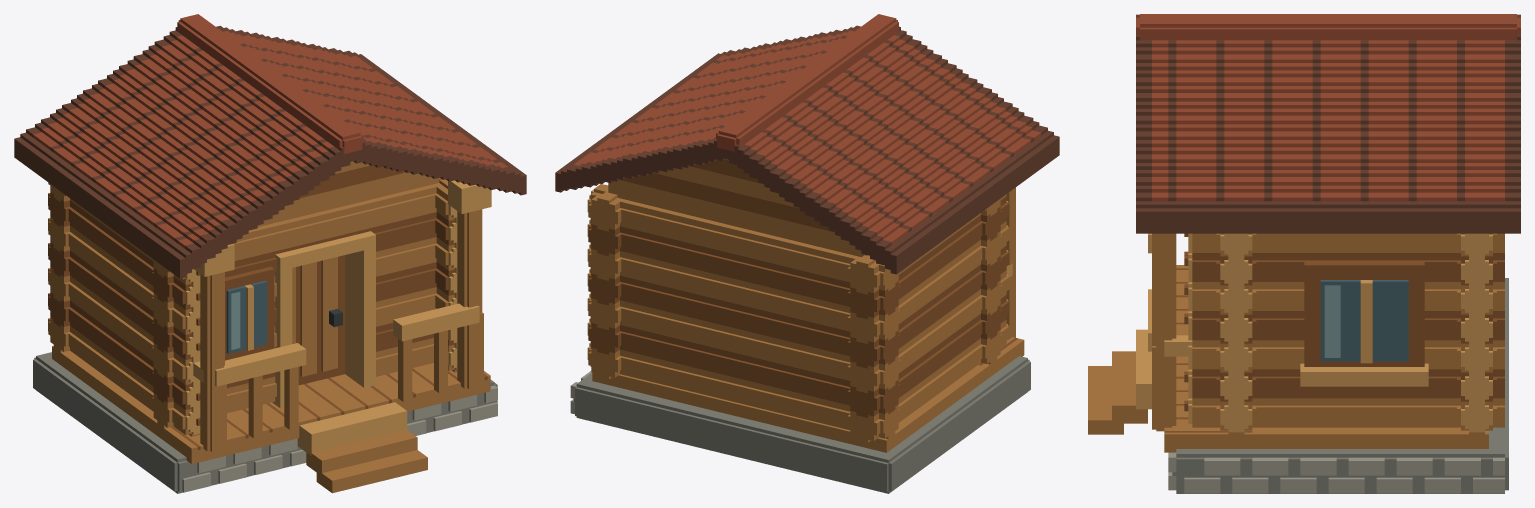
File: log_cabin.glb
3 renders of one model, left to right at view 1: azimuth 30°, elevation 25°; view 2: azimuth 150°, elevation 25°; view 3: azimuth 270°, elevation 25°, orthographic. The views are drawn at different scales.
Visible parts, largest first — view 1: log_cabin; view 2: log_cabin; view 3: log_cabin.
Part boxes in pixels (x1=…): log_cabin: x1=14, y1=14, x2=526, y2=493; log_cabin: x1=555, y1=14, x2=1059, y2=493; log_cabin: x1=1088, y1=14, x2=1520, y2=493.
Bounding box in the file's own units: 5.8 × 5.3 × 5.4.
